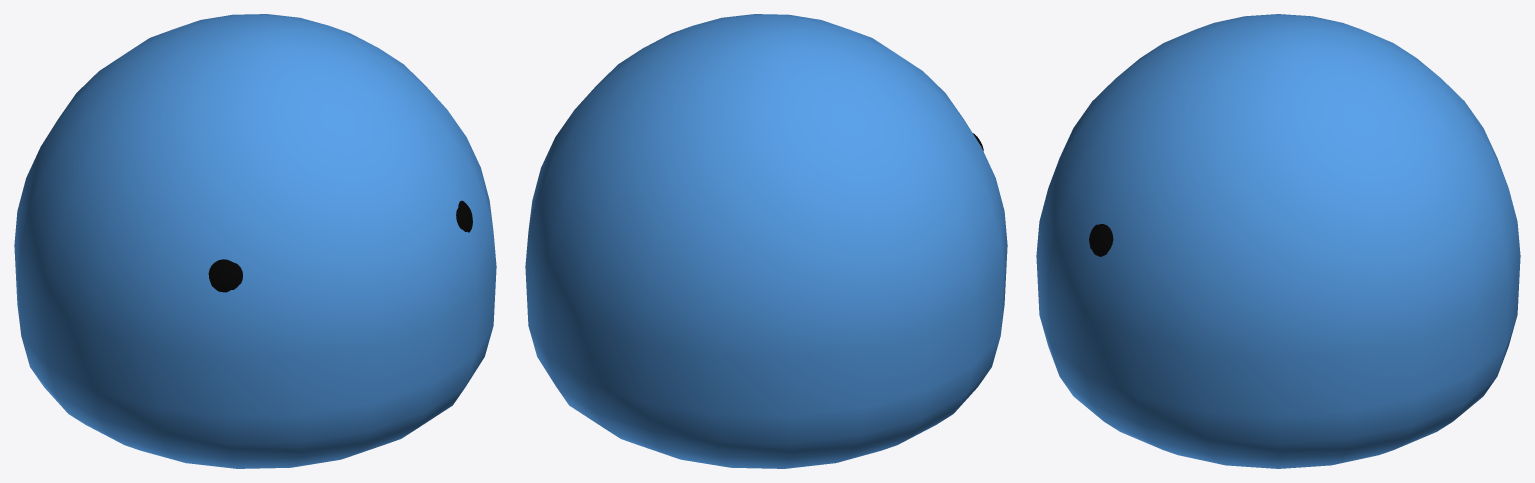
Rendered from waterBlob.glb.
3 views of the same model, side by side, from view 1: azimuth 30°, elevation 25°; view 2: azimuth 150°, elevation 25°; view 3: azimuth 270°, elevation 25° (orthographic).
Visible parts, largest first — view 1: Outside, Left_eye; view 2: Outside; view 3: Outside, Right_eye.
Part boxes in pixels (x1,y1,x2,y2): Outside: [14, 14, 496, 468]; Left_eye: [208, 259, 242, 292]; Outside: [525, 14, 1007, 468]; Outside: [1036, 14, 1520, 468]; Right_eye: [1089, 224, 1113, 256].
Size of the model in its own units: 0.9565 by 0.8568 by 0.9565.
